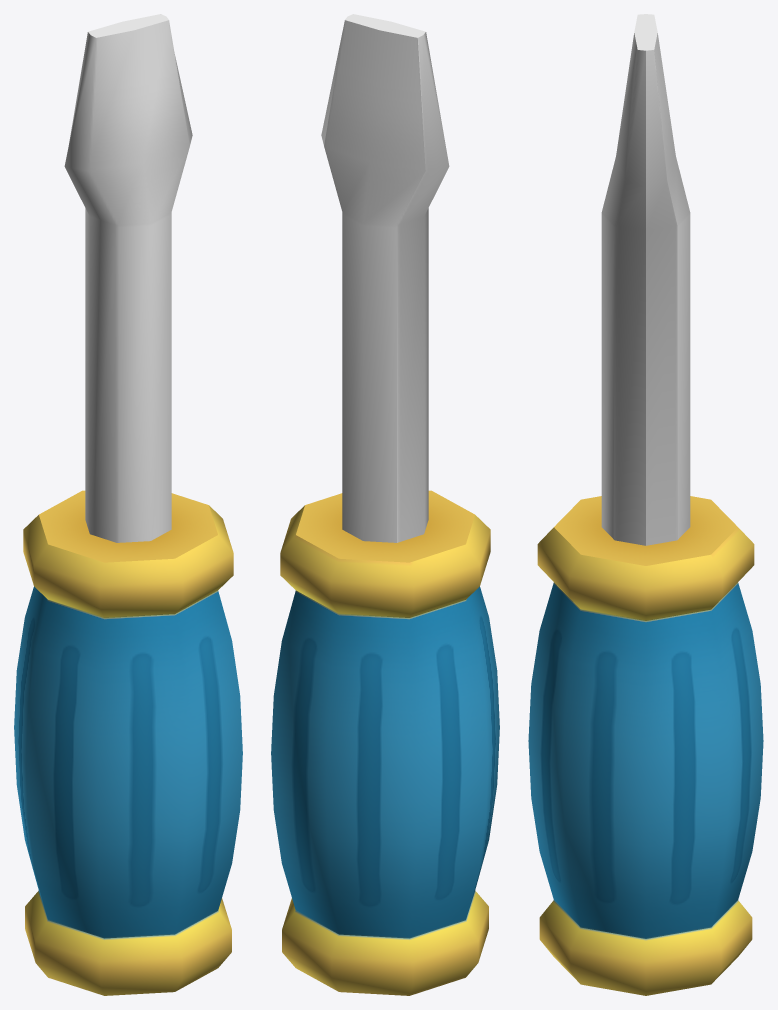
Rendered from driver.FBX.
The picture shows the model from 3 angles, left to right: view 1: azimuth 30°, elevation 25°; view 2: azimuth 150°, elevation 25°; view 3: azimuth 270°, elevation 25°; orthographic projection.
Visible parts, largest first — view 1: driver; view 2: driver; view 3: driver.
Boxes of the visible parts, x1,y1,x2,y2 form: driver: (14,14,242,995); driver: (271,14,499,995); driver: (528,14,763,995).
Size of the model in its own units: 8.88 by 38.55 by 8.88.
